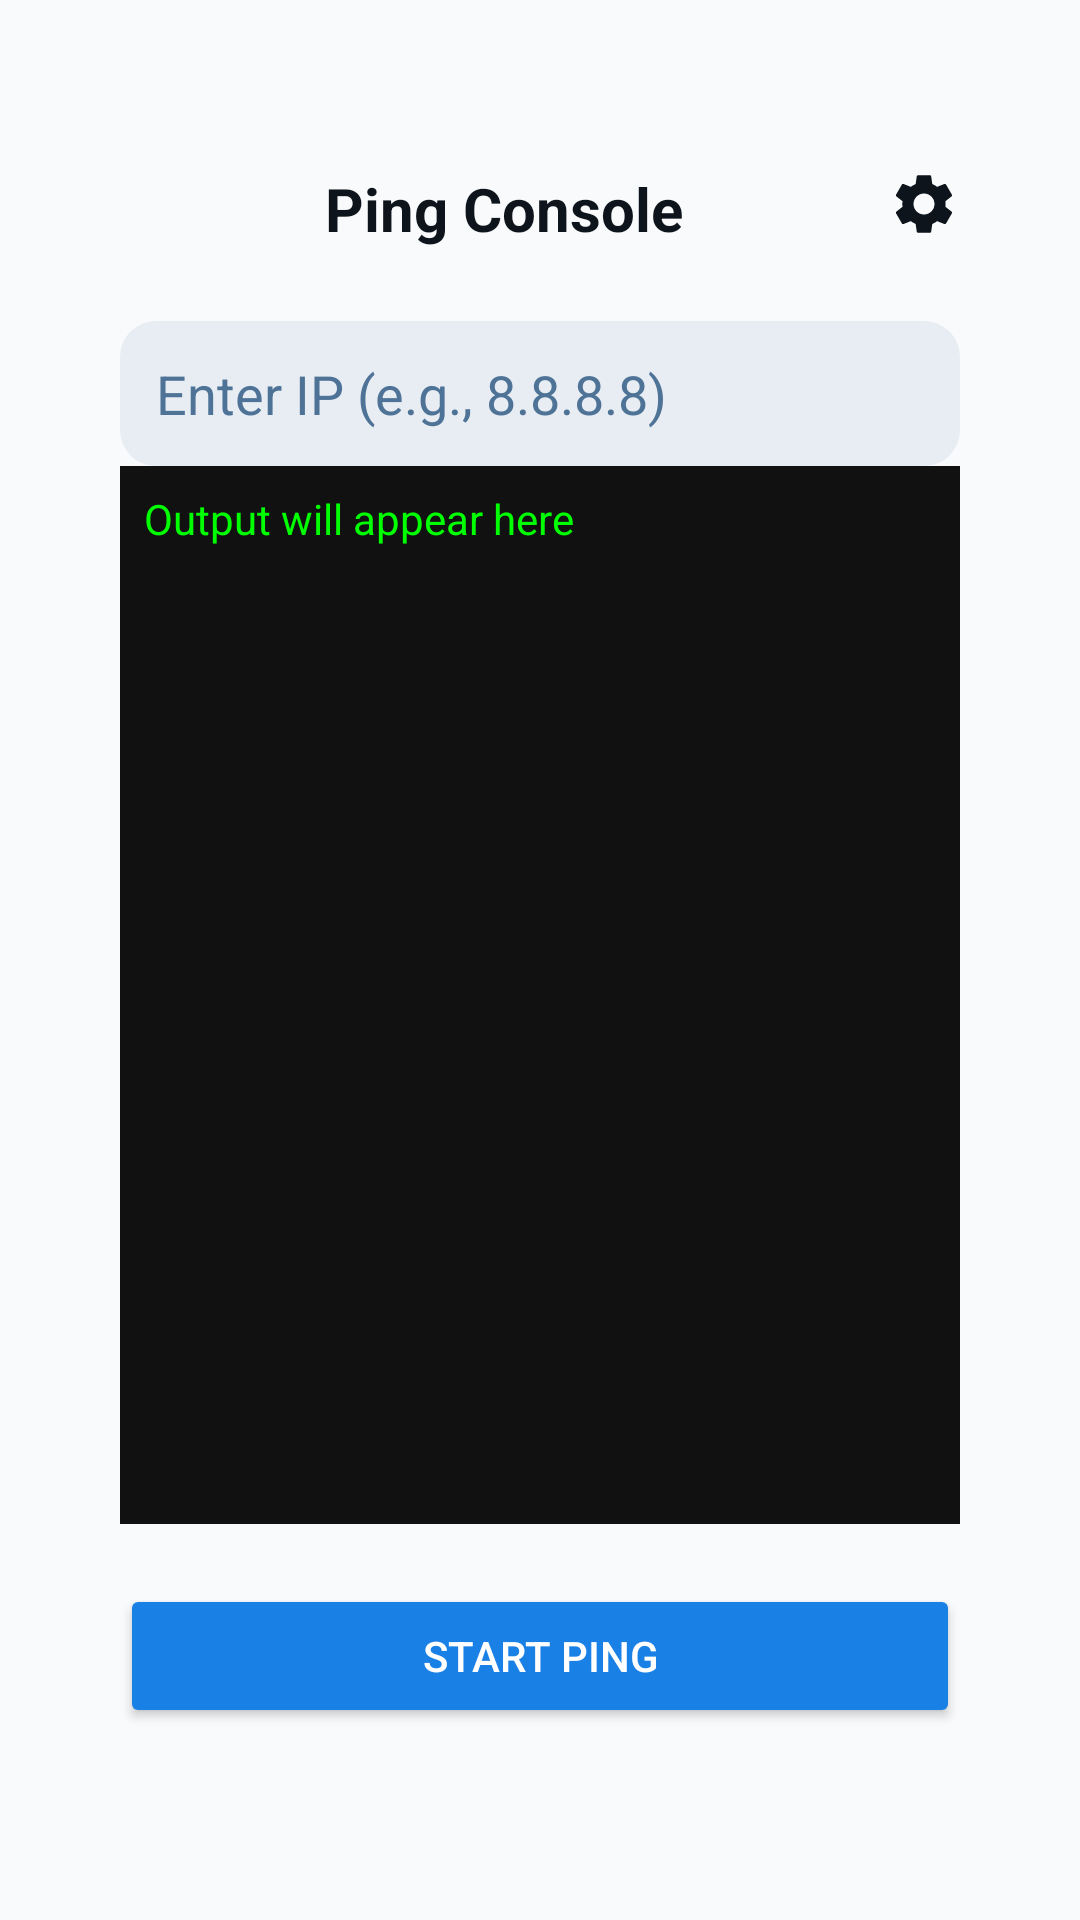

Named icons in this screenshot (1080*1920) and their bounding boxes, [x1,y1,x2,y2]:
Settings: [896,175,952,233]
